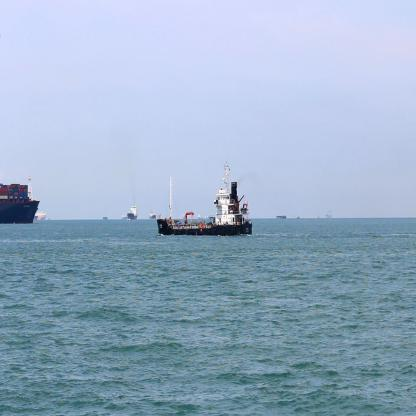Container Ship: (154, 158, 254, 240), (0, 169, 42, 227), (128, 200, 140, 222), (276, 210, 288, 222), (148, 209, 158, 223), (325, 207, 335, 220), (121, 213, 128, 224)
